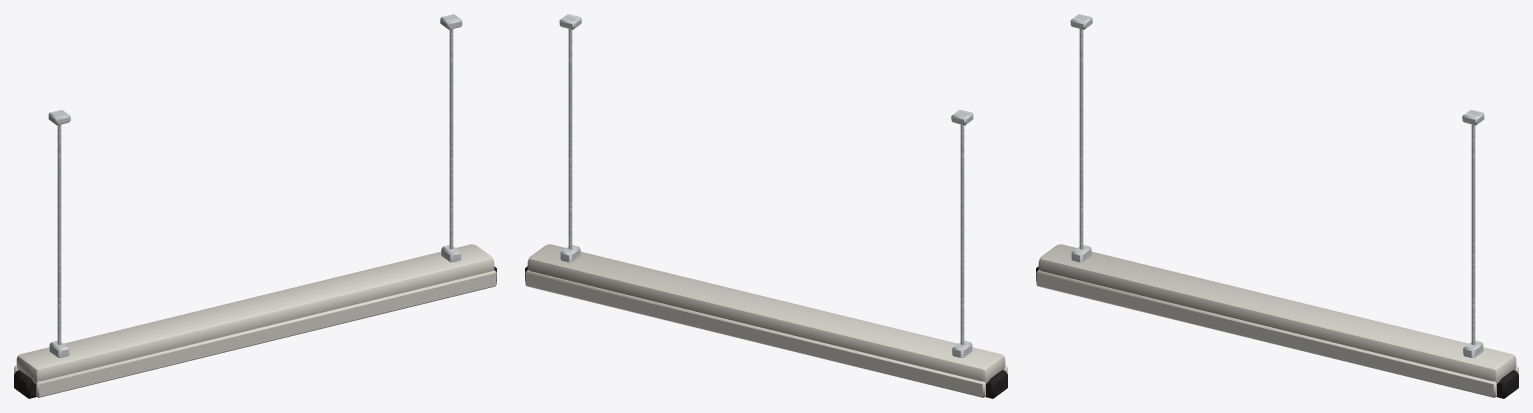
Rendered from fluorescent_tube.glb.
3 views of the same model, side by side, from view 1: azimuth 30°, elevation 25°; view 2: azimuth 150°, elevation 25°; view 3: azimuth 330°, elevation 25° (orthographic).
Parts seen in each view (by area): view 1: fluorescent_tube__paint_white, fluorescent_tube__steel_brushed, fluorescent_tube__rubber_black; view 2: fluorescent_tube__paint_white, fluorescent_tube__steel_brushed, fluorescent_tube__rubber_black; view 3: fluorescent_tube__paint_white, fluorescent_tube__steel_brushed, fluorescent_tube__rubber_black.
Part boxes in pixels (x1,y1,x2,y2): fluorescent_tube__paint_white: (14,244,496,397); fluorescent_tube__steel_brushed: (48,14,462,357); fluorescent_tube__rubber_black: (14,266,496,398); fluorescent_tube__paint_white: (525,244,1007,397); fluorescent_tube__steel_brushed: (559,14,973,357); fluorescent_tube__rubber_black: (525,266,1007,398); fluorescent_tube__paint_white: (1036,244,1518,397); fluorescent_tube__steel_brushed: (1070,14,1484,357); fluorescent_tube__rubber_black: (1036,266,1518,398).
Size of the model in its own units: 1.25 by 0.69 by 0.112.
4 materials, 1 textured.
